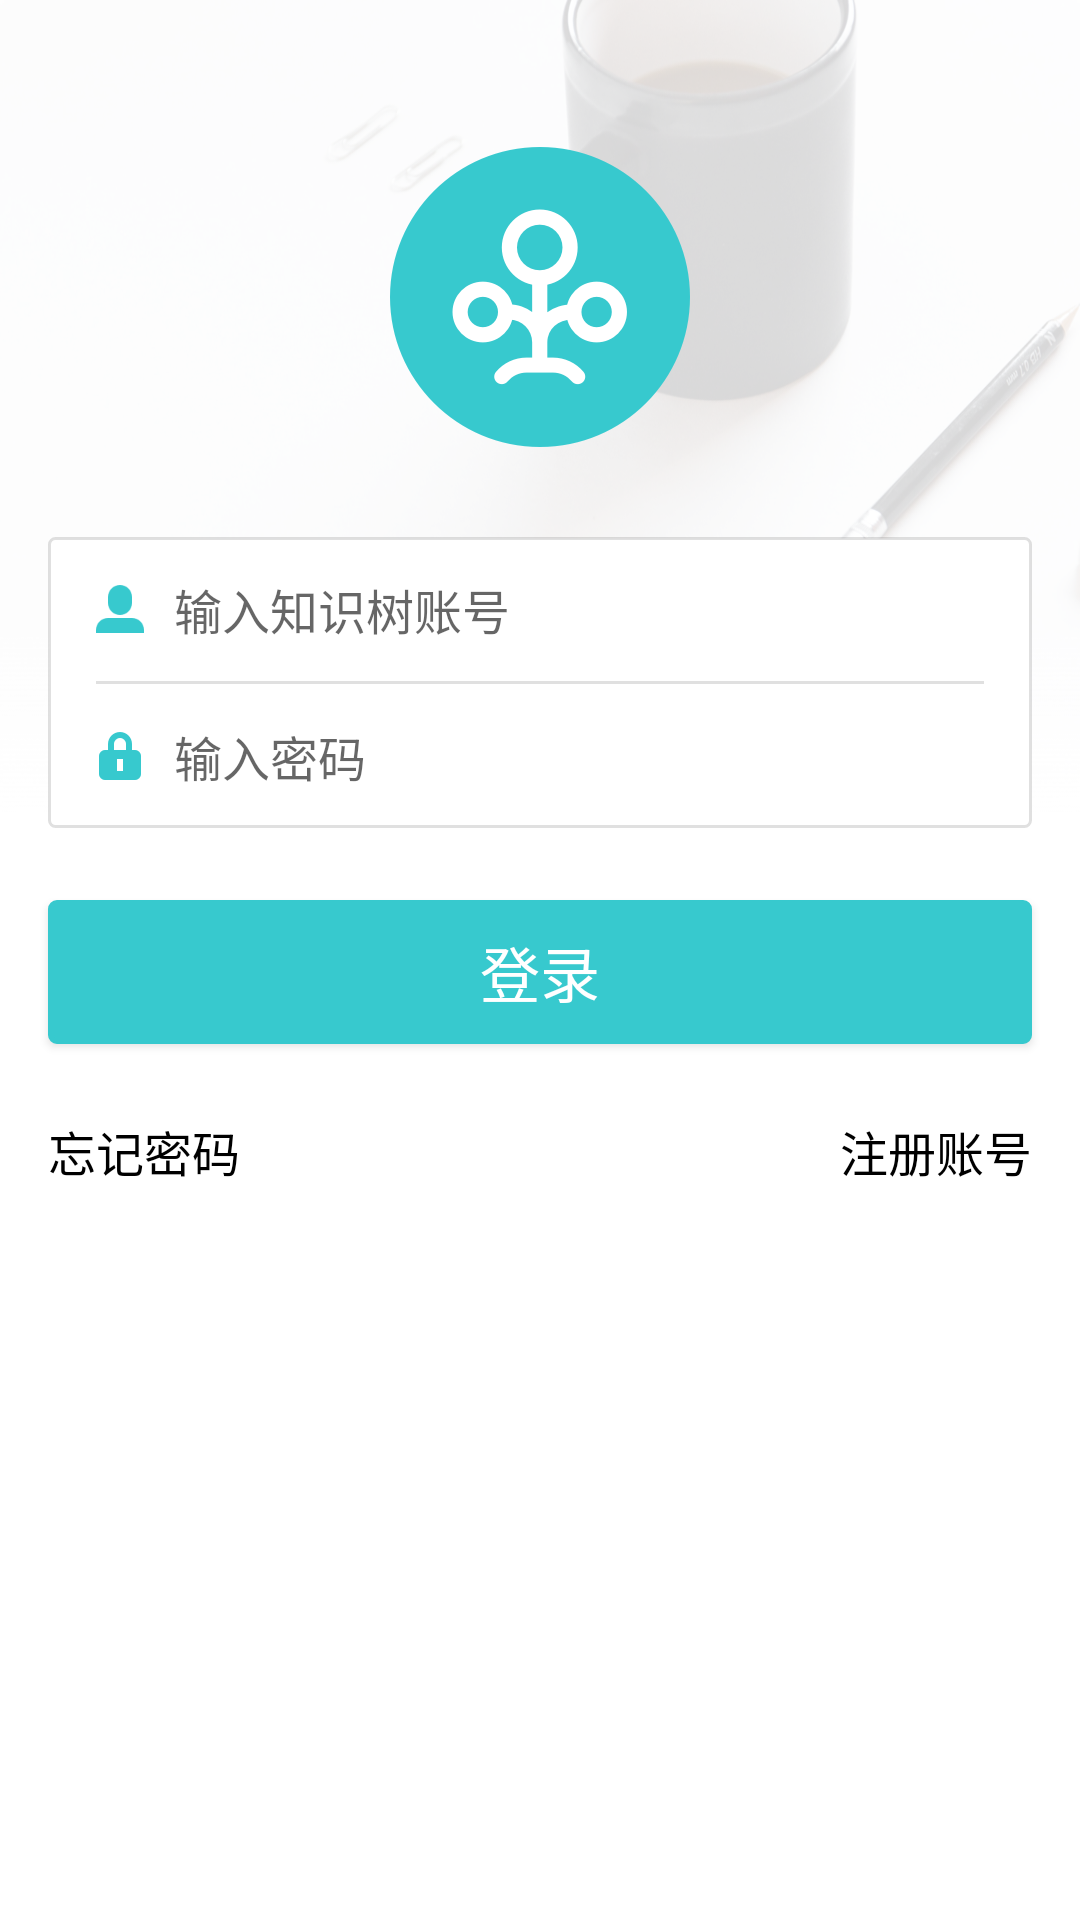

Locate icon controls on the screen. Image size 1080px×1920px, boxes as (x1, y1, x2, y2).
login log: (390, 147, 690, 447)
